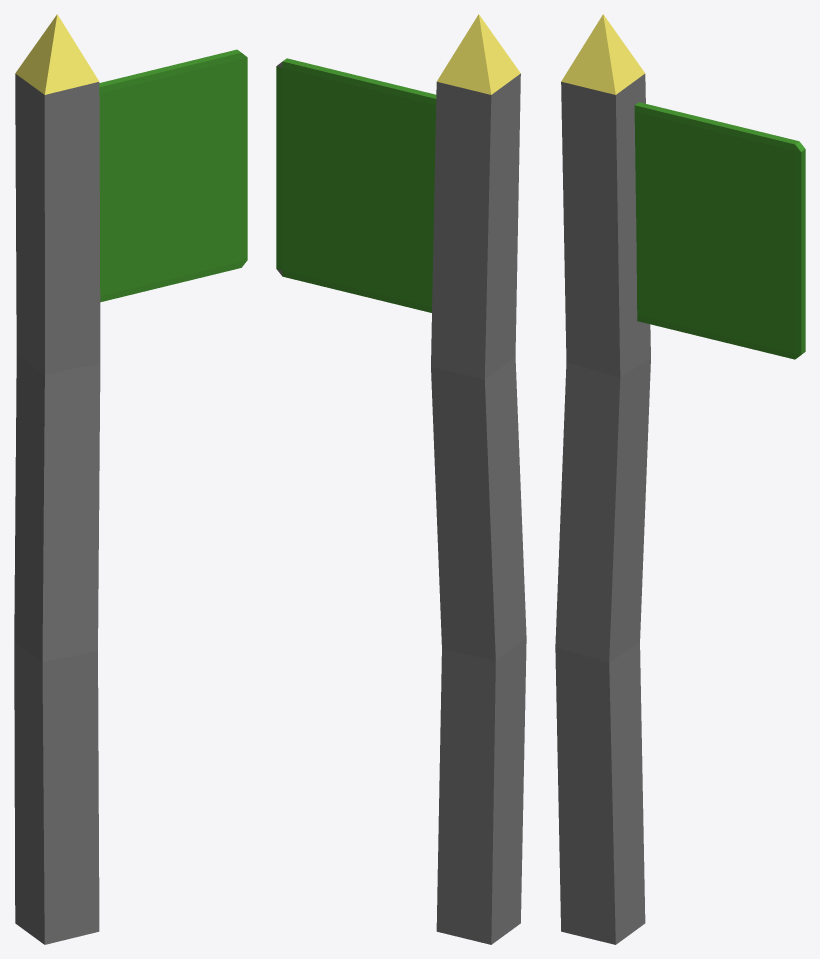
Rendered from CheckpointFlag.fbx.
3 renders of one model, left to right at view 1: azimuth 30°, elevation 25°; view 2: azimuth 150°, elevation 25°; view 3: azimuth 330°, elevation 25°, orthographic.
Parts seen in each view (by area): view 1: FlagPole; view 2: FlagPole; view 3: FlagPole.
Boxes of the visible parts, x1=… form: FlagPole: x1=14, y1=14, x2=247, y2=944; FlagPole: x1=276, y1=14, x2=526, y2=944; FlagPole: x1=555, y1=14, x2=805, y2=944.
Bounding box in the file's own units: 219 × 849 × 58.3.
